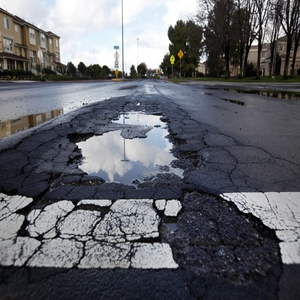pothole: (70, 99, 199, 190)
